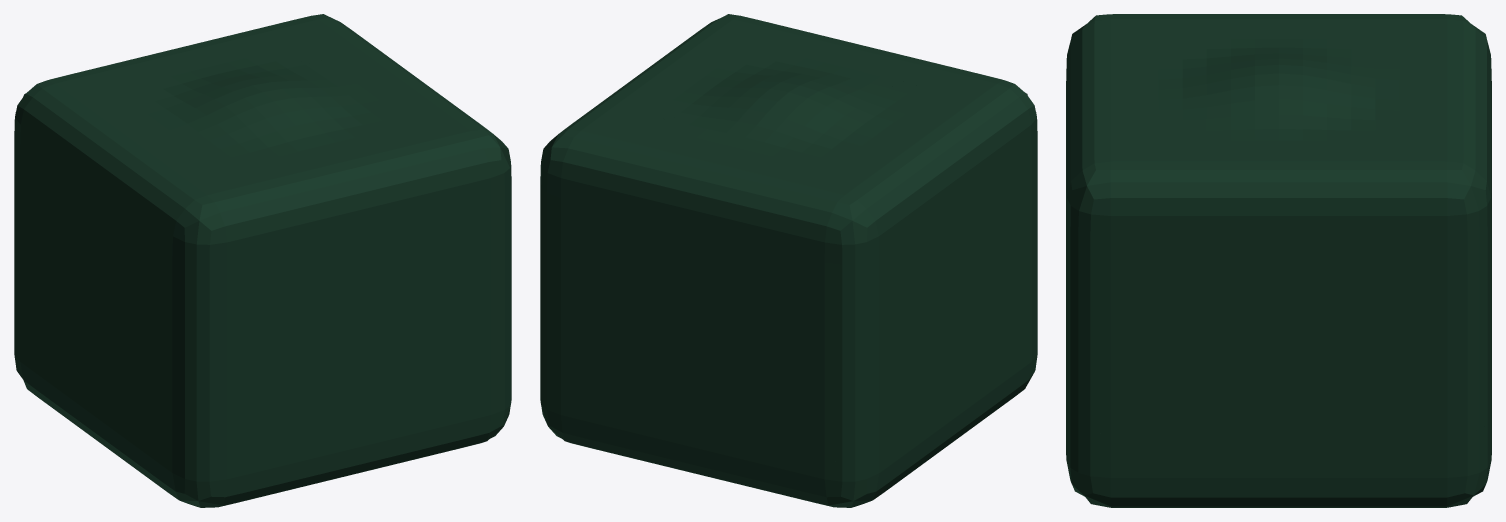
The model's file is BIB-POF-std.glb.
3 views of the same model, side by side, from view 1: azimuth 30°, elevation 25°; view 2: azimuth 150°, elevation 25°; view 3: azimuth 270°, elevation 25° (orthographic). The views are drawn at different scales.
Parts seen in each view (by area): view 1: pillow-pouf:pbr; view 2: pillow-pouf:pbr; view 3: pillow-pouf:pbr.
Boxes of the visible parts, left/top/right/bottom form: pillow-pouf:pbr: left=14, top=14, right=511, bottom=507; pillow-pouf:pbr: left=540, top=14, right=1037, bottom=507; pillow-pouf:pbr: left=1066, top=14, right=1491, bottom=507.
Bounding box in the file's own units: 0.45 × 0.4385 × 0.45.
